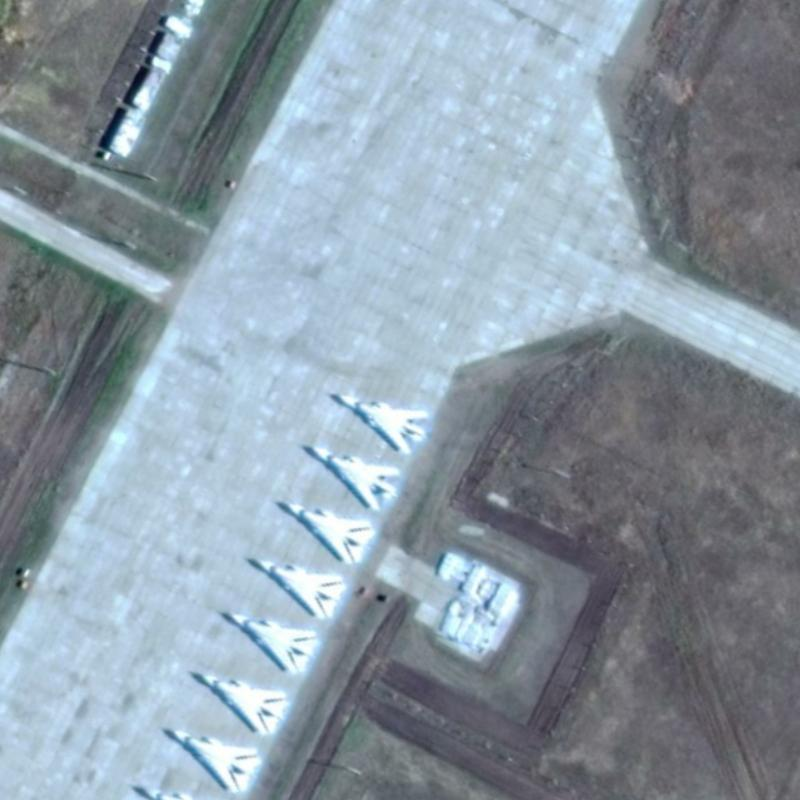A20: (212, 605, 324, 679), (271, 494, 380, 568), (159, 720, 266, 794), (299, 440, 404, 513), (184, 667, 293, 737), (242, 552, 350, 621), (327, 390, 434, 457)
